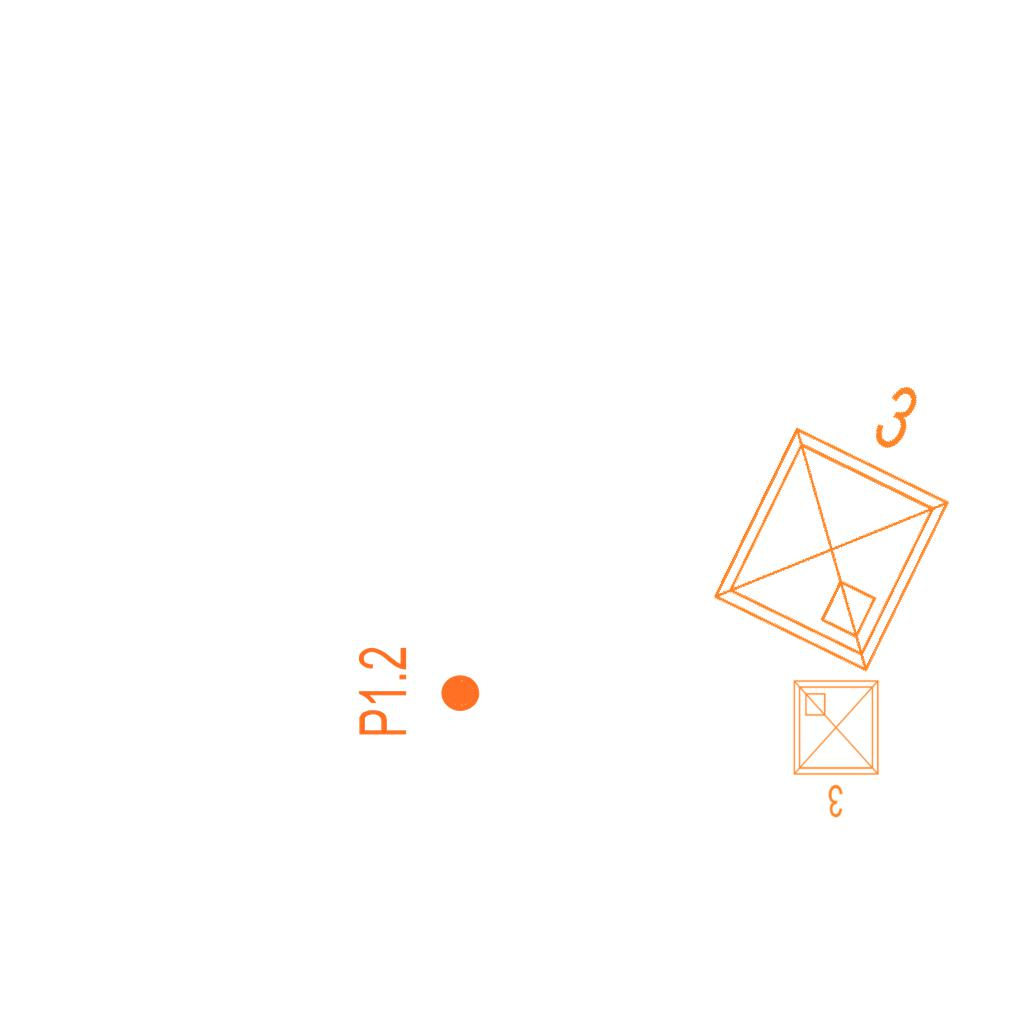Downlight_LED_Einbauleuchten_Flur: (355, 645, 483, 738)
Einbaudownlights_LED_Konferenzraeume: (686, 330, 1006, 692), (786, 673, 890, 823)
